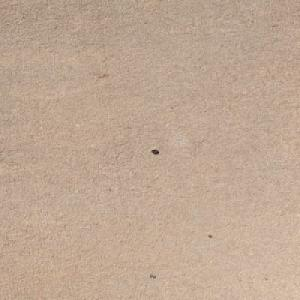Nut: (150, 148, 157, 153)
